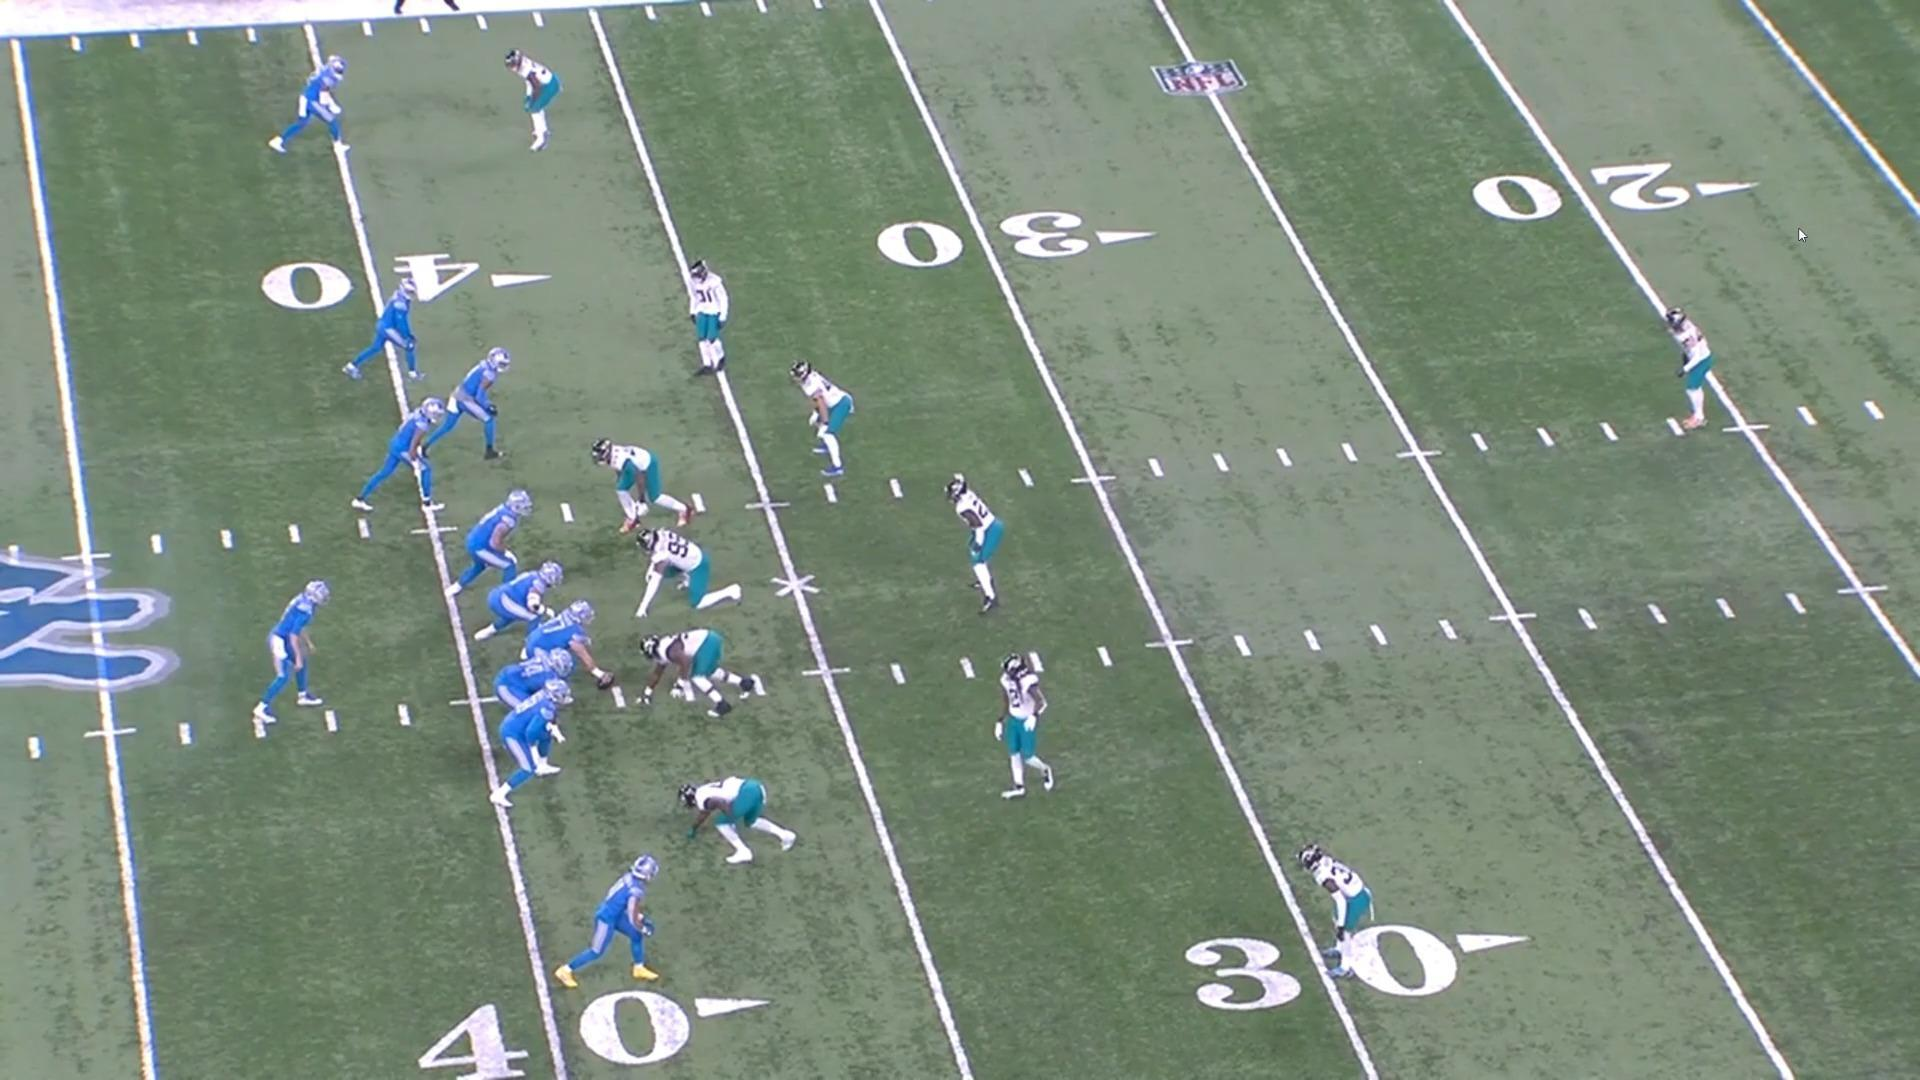20R: (1473, 162, 1760, 222)
30R: (1184, 924, 1530, 1009), (878, 210, 1158, 268)
40R: (415, 989, 769, 1080), (258, 255, 551, 309)
